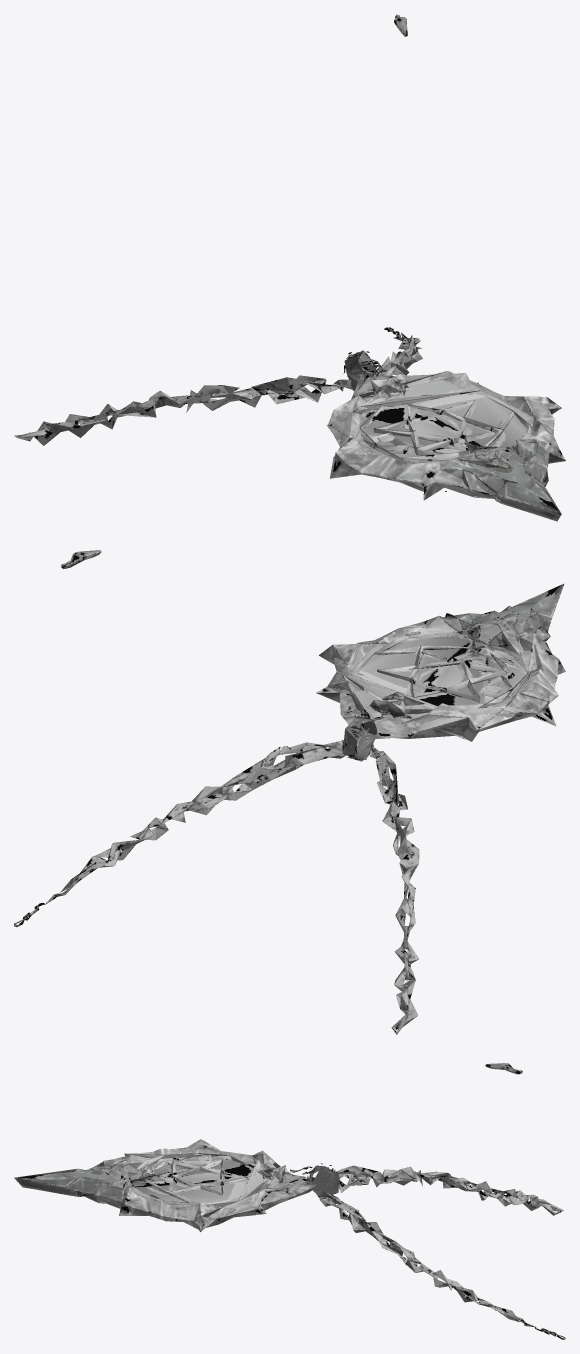
File: medallion_necklace_LOD2.glb
3 views of the same model, one above another, from view 1: azimuth 30°, elevation 25°; view 2: azimuth 150°, elevation 25°; view 3: azimuth 270°, elevation 25° (orthographic). The views are drawn at different scales.
Parts seen in each view (by area): view 1: medallion_necklace_LOD2; view 2: medallion_necklace_LOD2; view 3: medallion_necklace_LOD2.
Boxes of the visible parts, x1,y1,x2,y2 form: medallion_necklace_LOD2: (14, 14, 565, 521); medallion_necklace_LOD2: (14, 550, 565, 1034); medallion_necklace_LOD2: (14, 1063, 565, 1339).
Bounding box in the file's own units: 0.5651 × 0.511 × 0.9111.
1 material, 1 textured.
